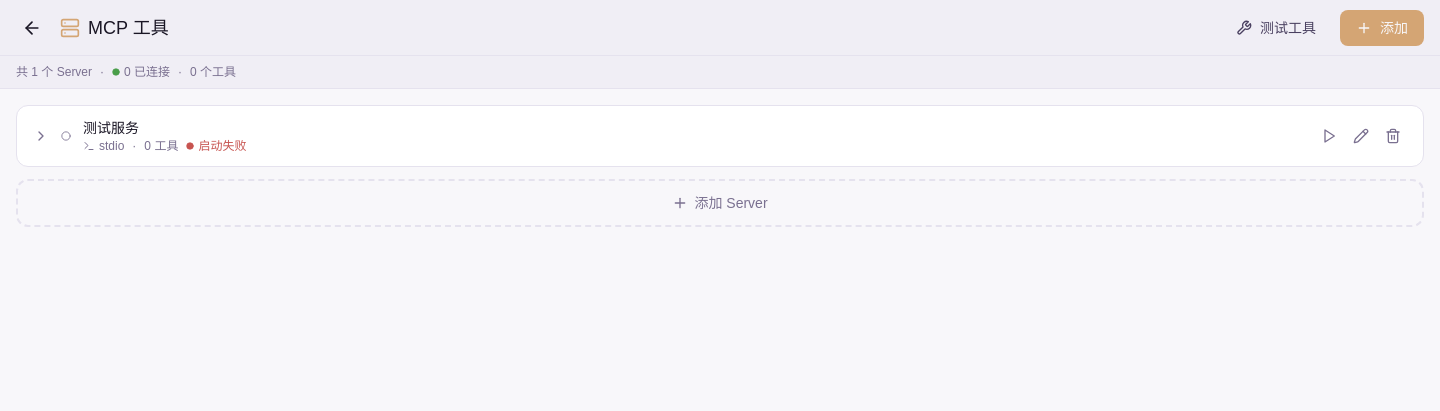
Test: McpPage › UEX-P1-29：启动失败折叠态行头显示红色指示，展开后可见错误详情
Expected: the text "启动失败" is shown, [186,138,246,154]
Expected: the text "spawn 失败：命令不存在" is not shown
Click the text "测试服务" at (111, 128), box [83,120,139,136]
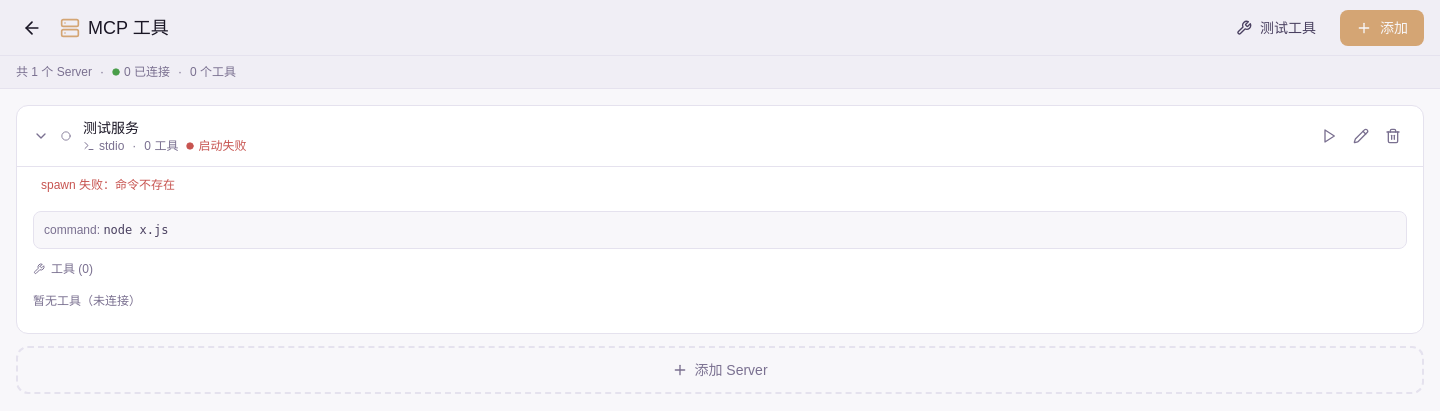
Expected: the text "spawn 失败：命令不存在" is shown, [41,178,175,192]
